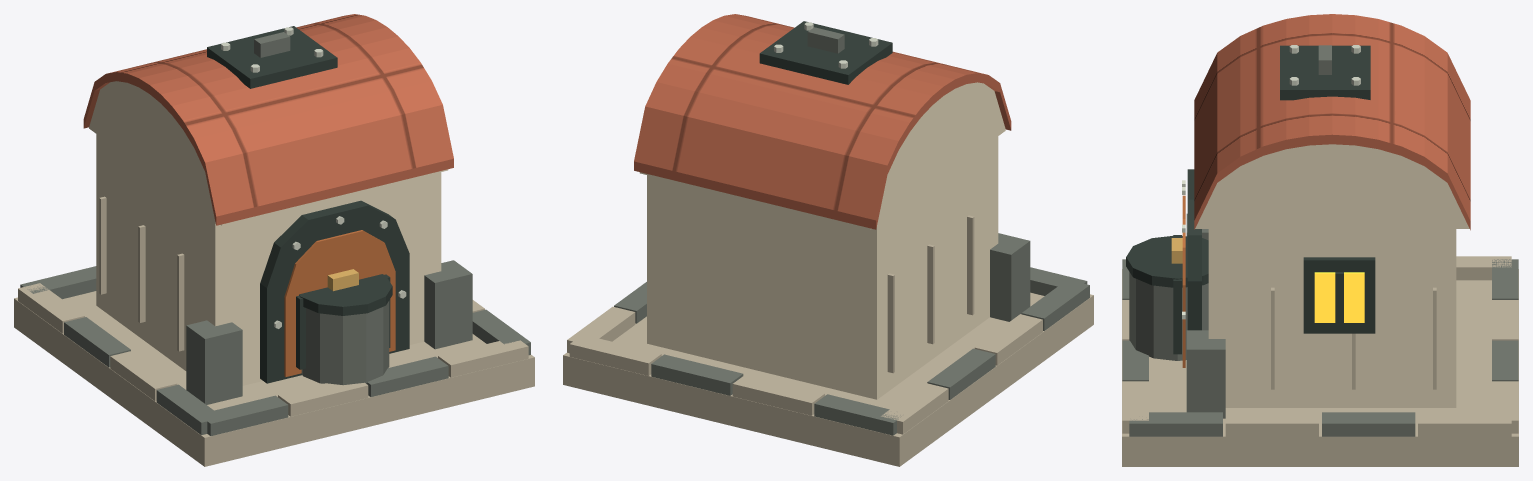
File: source-quality.glb
The picture shows the model from 3 angles, left to right: view 1: azimuth 30°, elevation 25°; view 2: azimuth 150°, elevation 25°; view 3: azimuth 270°, elevation 25°; orthographic projection. The views are drawn at different scales.
Visible parts, largest first — view 1: Mesh_source-quality_FacilityDetailPaint, Mesh_TransferHatch_FacilityDetailPaint, Mesh_source-quality_FacilityDetailMetal; view 2: Mesh_source-quality_FacilityDetailPaint, Mesh_TransferHatch_FacilityDetailPaint; view 3: Mesh_source-quality_FacilityDetailPaint, Mesh_TransferHatch_FacilityDetailPaint, Side inspection glow, Mesh_source-quality_FacilityDetailMetal.
Part boxes in pixels (x1,y1,x2,y2): Mesh_source-quality_FacilityDetailPaint: (14,14,534,466); Mesh_TransferHatch_FacilityDetailPaint: (207,26,337,88); Mesh_source-quality_FacilityDetailMetal: (274,216,406,328); Mesh_source-quality_FacilityDetailPaint: (563,14,1093,466); Mesh_TransferHatch_FacilityDetailPaint: (759,21,892,84); Mesh_source-quality_FacilityDetailPaint: (1122,14,1518,466); Mesh_TransferHatch_FacilityDetailPaint: (1280,45,1370,100); Side inspection glow: (1314,272,1364,322); Mesh_source-quality_FacilityDetailMetal: (1171,180,1185,319).
Size of the model in its own units: 0.8333 by 0.765 by 0.8333.
3 materials, 2 textured.
